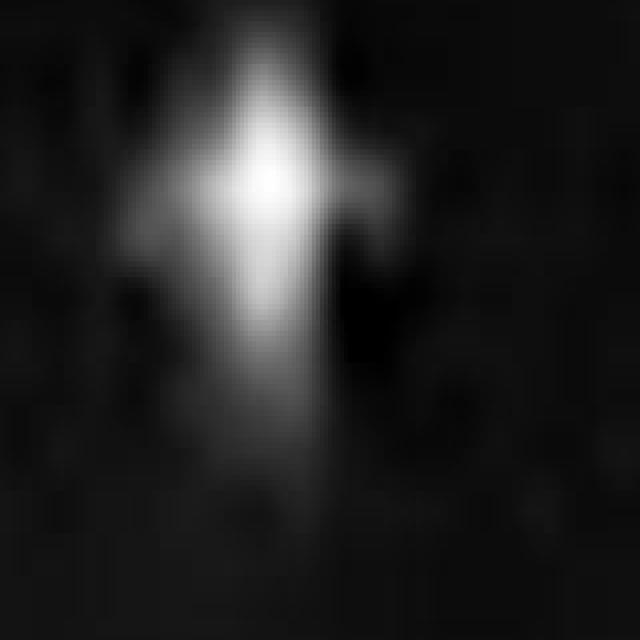person: (136, 20, 386, 493)
